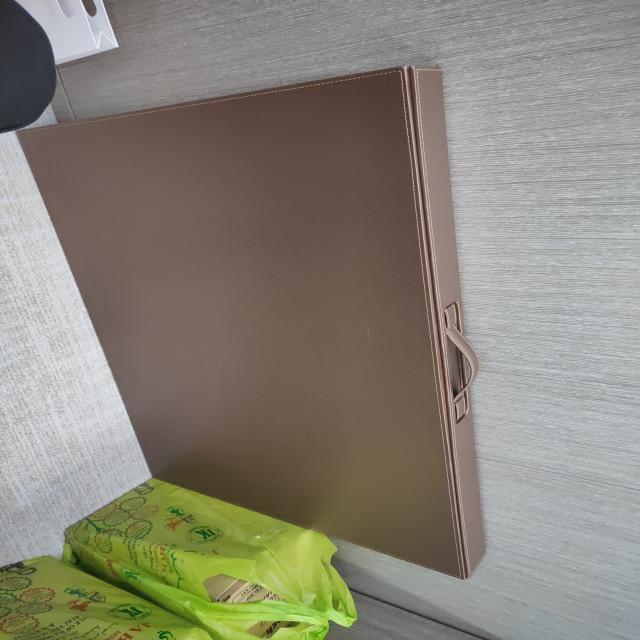suitcaserotation: (9, 61, 492, 584)
